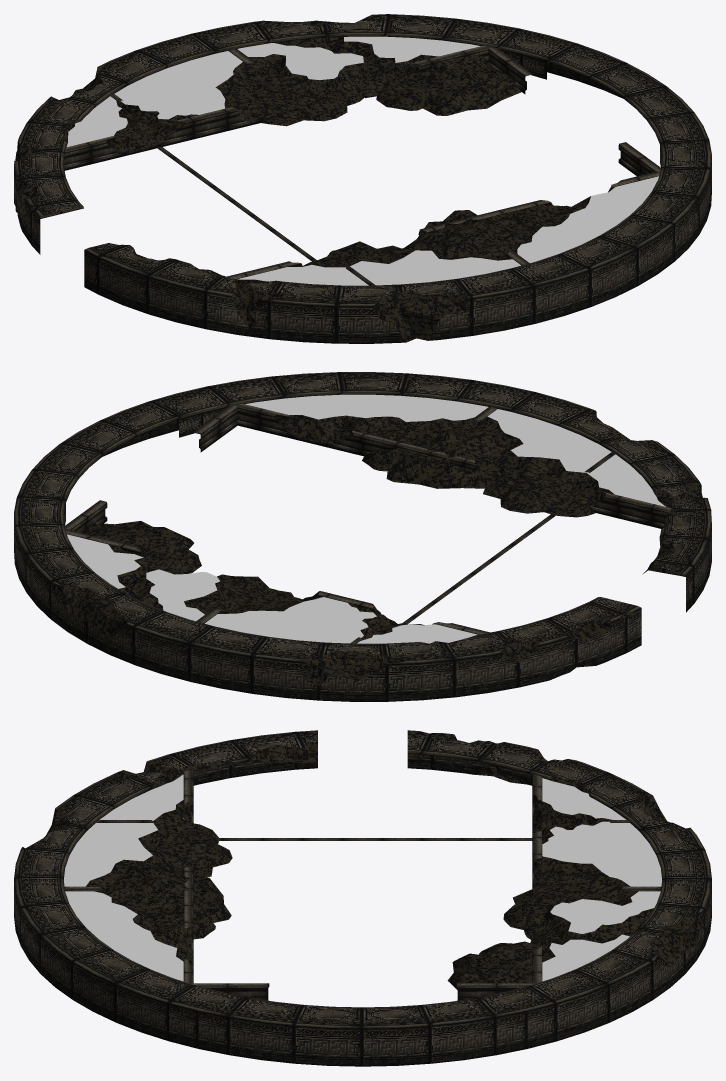
The model's file is EnvMdrMD_Atl_A_Floor_Broken.FBX.
3 views of the same model, one above another, from view 1: azimuth 30°, elevation 25°; view 2: azimuth 150°, elevation 25°; view 3: azimuth 270°, elevation 25° (orthographic).
Visible parts, largest first — view 1: EnvMdrMD_Atl_A_Floor_Broken; view 2: EnvMdrMD_Atl_A_Floor_Broken; view 3: EnvMdrMD_Atl_A_Floor_Broken.
Boxes of the visible parts, bbox=[...] form: EnvMdrMD_Atl_A_Floor_Broken: bbox=[14, 14, 711, 343]; EnvMdrMD_Atl_A_Floor_Broken: bbox=[14, 372, 711, 701]; EnvMdrMD_Atl_A_Floor_Broken: bbox=[14, 730, 711, 1066].
Bounding box in the file's own units: 3542 × 261 × 3501.
